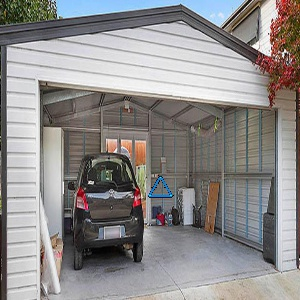triangle: (146, 175, 177, 200)
